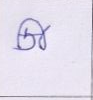i_matra: (29, 18, 51, 50)
